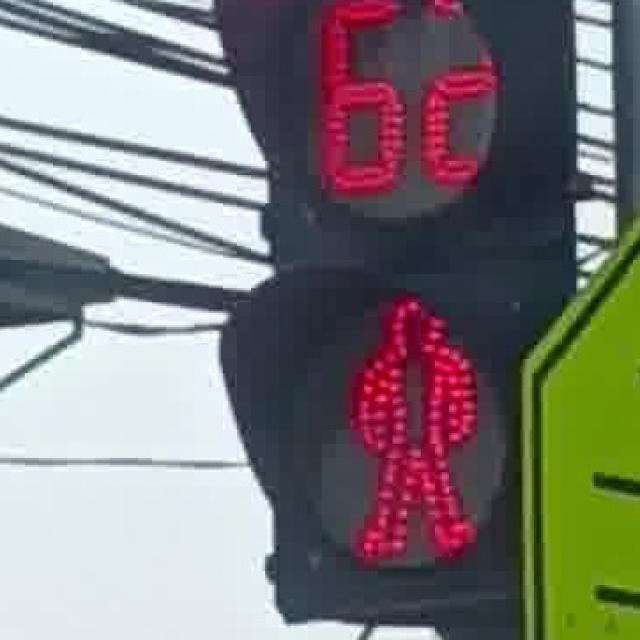red_light: (336, 284, 486, 572)
